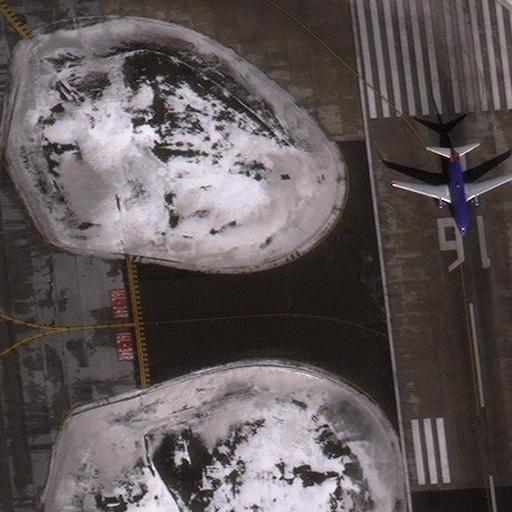Medium Civil Transport: (392, 146, 512, 237)
